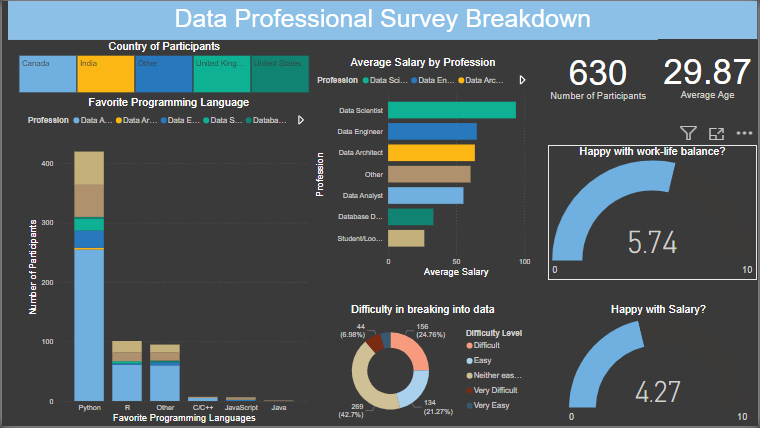

The page's visual inventory and layout, read from the dashboard file:
{"tool":"powerbi","page":{"name":"Page 1","canvas":[1280,720],"ordinal":0},"visuals":[{"type":"textbox","box":[10.1,0,1269.9,65.5],"z":0},{"type":"card","fields":{"Values":["Count(Data Professional Survey.Unique ID)"]},"box":[908,66,204,116],"z":1000},{"type":"card","fields":{"Values":["Avg(Data Professional Survey.Q10 - Current Age)"]},"box":[1112,64,168,116],"z":2000},{"type":"barChart","title":"Average Salary by Profession","fields":{"Category":["Data Professional Survey.Q1 - Which Title Best Fits your Current Role?.1.1"],"Y":["Avg(Data Professional Survey.Average Salary)"],"Series":["Data Professional Survey.Q1 - Which Title Best Fits your Current Role?.1.1"]},"box":[525.9,92.6,375.9,379.6],"z":3000},{"type":"columnChart","title":"Favorite Programming Language","fields":{"Category":["Data Professional Survey.Q5 - Favorite Programming Language.1"],"Y":["CountNonNull(Data Professional Survey.Unique ID)"],"Series":["Data Professional Survey.Q1 - Which Title Best Fits your Current Role?.1.1"]},"box":[38.9,161.1,487,559.3],"z":4000},{"type":"treemap","title":"Country of Participants","fields":{"Group":["Data Professional Survey.Q11 - Which Country do you live in?.1"],"Values":["Count(Data Professional Survey.Q11 - Which Country do you live in?.1)"]},"box":[24.1,66.7,501.9,94.4],"z":5000},{"type":"gauge","title":"Happy with work-life balance?","fields":{"Y":["Avg(Data Professional Survey.Q6 - How Happy are you in your Current Position with the following? (Work/Life Balance))"],"MinValue":["Min(Data Professional Survey.Q6 - How Happy are you in your Current Position with the following? (Work/Life Balance))"],"MaxValue":["Max(Data Professional Survey.Q6 - How Happy are you in your Current Position with the following? (Work/Life Balance))"]},"box":[925.9,244.4,353.7,227.8],"z":6000},{"type":"gauge","title":"Happy with Salary?","fields":{"Y":["Avg(Data Professional Survey.Q6 - How Happy are you in your Current Position with the following? (Salary))"],"MinValue":["Min(Data Professional Survey.Q6 - How Happy are you in your Current Position with the following? (Salary))"],"MaxValue":["Max(Data Professional Survey.Q6 - How Happy are you in your Current Position with the following? (Salary))"]},"box":[946.3,511.1,333.3,209.3],"z":7000},{"type":"donutChart","title":"Difficulty in breaking into data","fields":{"Series":["Data Professional Survey.Q7 - How difficult was it for you to break into Data?"],"Y":["CountNonNull(Data Professional Survey.Q7 - How difficult was it for you to break into Data?)"]},"box":[525.9,511.1,375.9,209.3],"z":8000}]}

Visuals, with their boxes in screenshot pixels (x1, y1, x2, y2), scaled from the page's 1280x720 canvas onto the 760x428 screenshot:
textbox: [6, 0, 759, 39]
card - Count(Data Professional Survey.Unique ID): [539, 39, 660, 108]
card - Avg(Data Professional Survey.Q10 - Current Age): [660, 38, 759, 107]
"Average Salary by Profession" barChart: [312, 55, 535, 281]
"Favorite Programming Language" columnChart: [23, 96, 312, 427]
"Country of Participants" treemap: [14, 40, 312, 96]
"Happy with work-life balance?" gauge: [550, 145, 759, 281]
"Happy with Salary?" gauge: [562, 304, 759, 427]
"Difficulty in breaking into data" donutChart: [312, 304, 535, 427]
